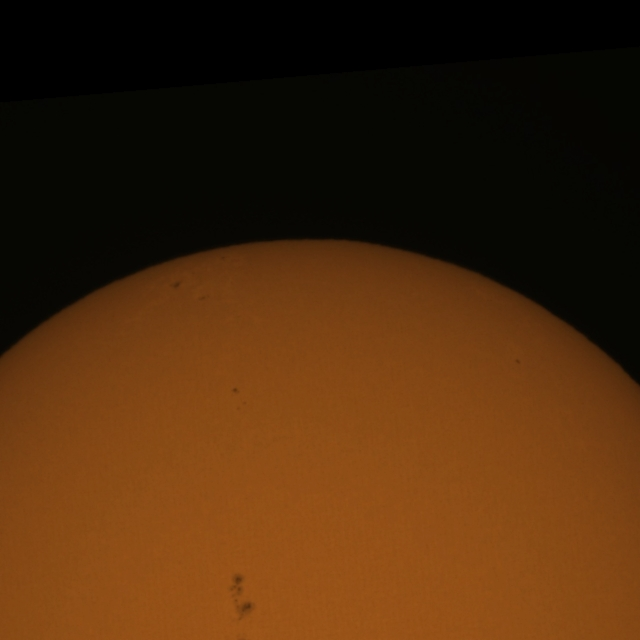sunspot: (228, 574, 256, 620), (227, 572, 246, 600), (231, 386, 247, 408), (234, 399, 247, 411), (197, 293, 210, 303), (169, 280, 182, 289), (231, 386, 240, 395), (514, 358, 522, 365)
